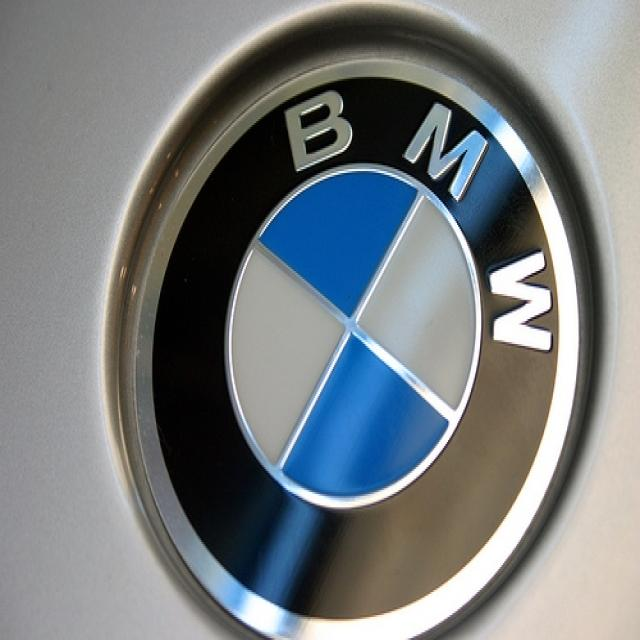bmw: (125, 47, 587, 639)
